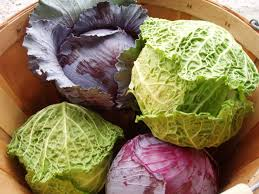cabbage: (133, 25, 257, 150), (15, 110, 114, 194), (110, 133, 231, 194), (42, 25, 135, 103)
